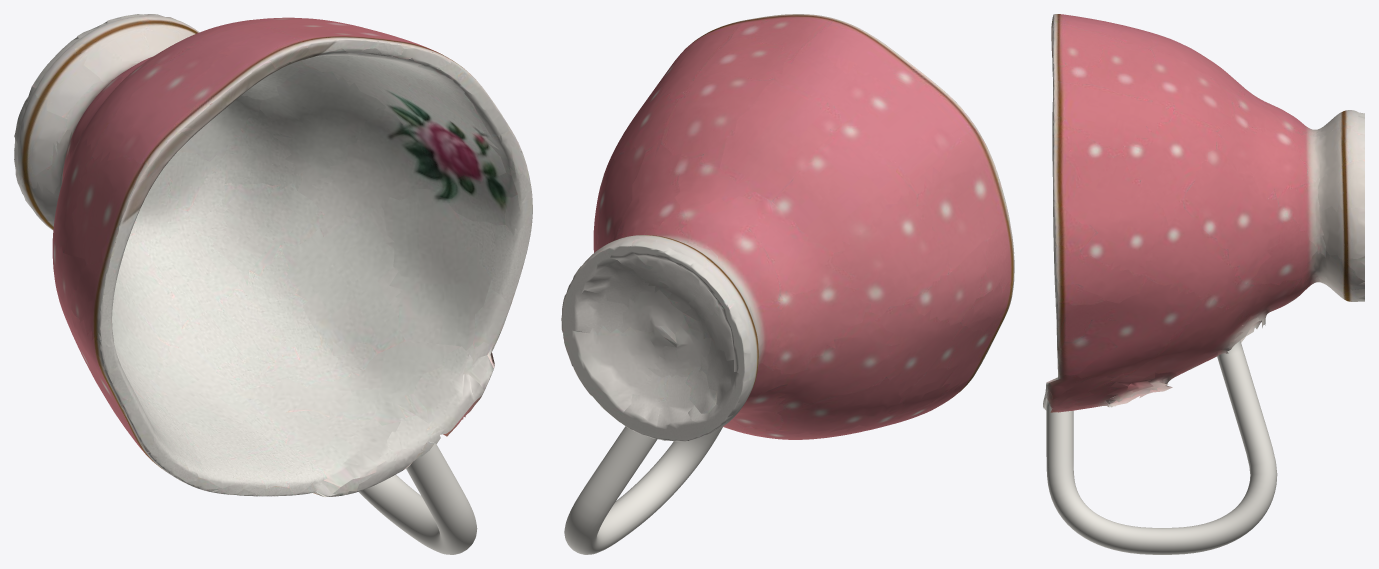
The model's file is sister-25.glb.
The picture shows the model from 3 angles, left to right: view 1: azimuth 30°, elevation 25°; view 2: azimuth 150°, elevation 25°; view 3: azimuth 270°, elevation 25°; orthographic projection. The views are drawn at different scales.
Visible parts, largest first — view 1: ceramic teacup; view 2: ceramic teacup; view 3: ceramic teacup.
Part boxes in pixels (box(x1,y1,x2,y2)): ceramic teacup: box(14, 14, 532, 554); ceramic teacup: box(561, 14, 1014, 554); ceramic teacup: box(1043, 14, 1364, 554).
Size of the model in its own units: 0.1029 by 0.1317 by 0.0834.
1 material, 1 textured.
